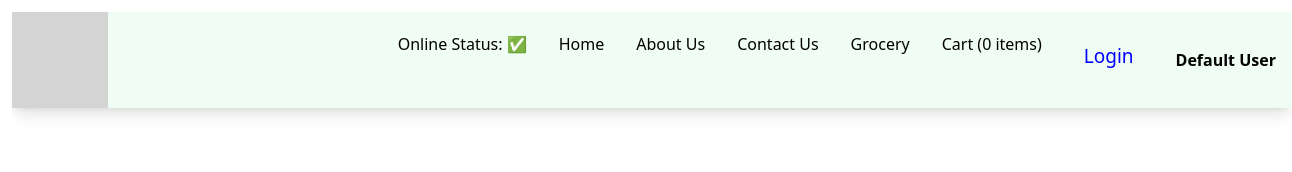
Test case: should load header component login button to logout on click
This screenshot has width=1292, height=172.
Note: querying for login button
Click the button "Login". click: (1109, 56)
box: [1074,32,1144,80]
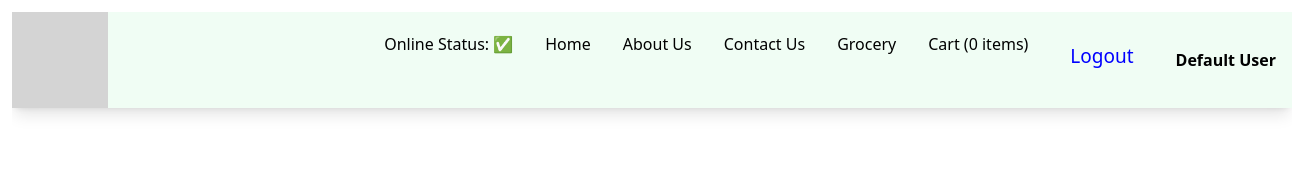
expect the button "Logout" is shown: met, box [1060,32,1144,80]
